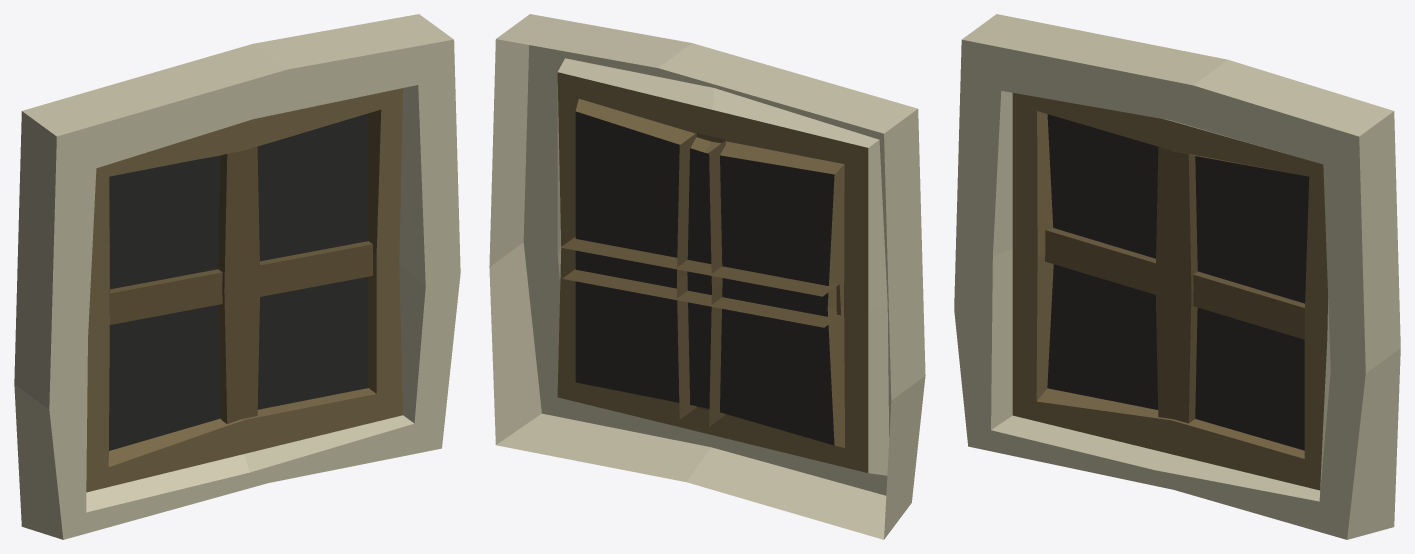
The model's file is Window_6.fbx.
3 views of the same model, side by side, from view 1: azimuth 30°, elevation 25°; view 2: azimuth 150°, elevation 25°; view 3: azimuth 330°, elevation 25° (orthographic). The views are drawn at different scales.
Visible parts, largest first — view 1: Window_6; view 2: Window_6; view 3: Window_6.
Part boxes in pixels (left/top/right/bottom): Window_6: left=14, top=14, right=460, bottom=539; Window_6: left=489, top=14, right=925, bottom=539; Window_6: left=954, top=14, right=1400, bottom=539.
Size of the model in its own units: 93.55 by 92.7 by 13.79.
